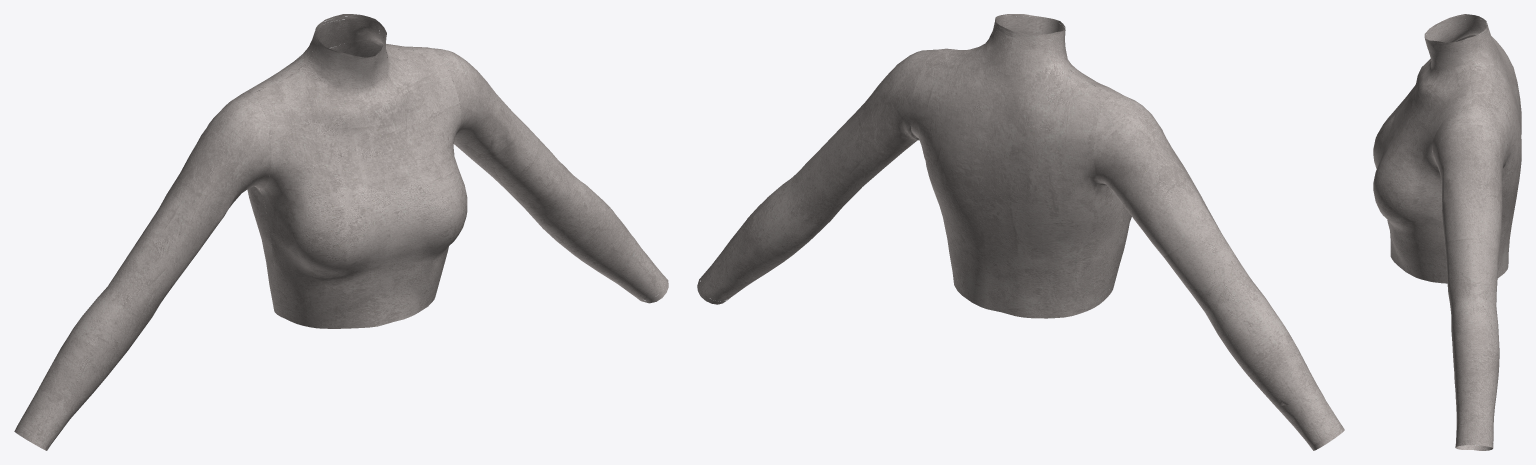
Rendered from white-velvet.glb.
3 renders of one model, left to right at view 1: azimuth 30°, elevation 25°; view 2: azimuth 150°, elevation 25°; view 3: azimuth 270°, elevation 25°, orthographic. The views are drawn at different scales.
Parts seen in each view (by area): view 1: dungaree; view 2: dungaree; view 3: dungaree.
Boxes of the visible parts, <box> form: dungaree: <box>14,14,668,450</box>; dungaree: <box>697,14,1344,450</box>; dungaree: <box>1373,14,1521,450</box>.
Size of the model in its own units: 5.41 by 2.82 by 1.26.
Materials: 1 (1 with a texture image).
